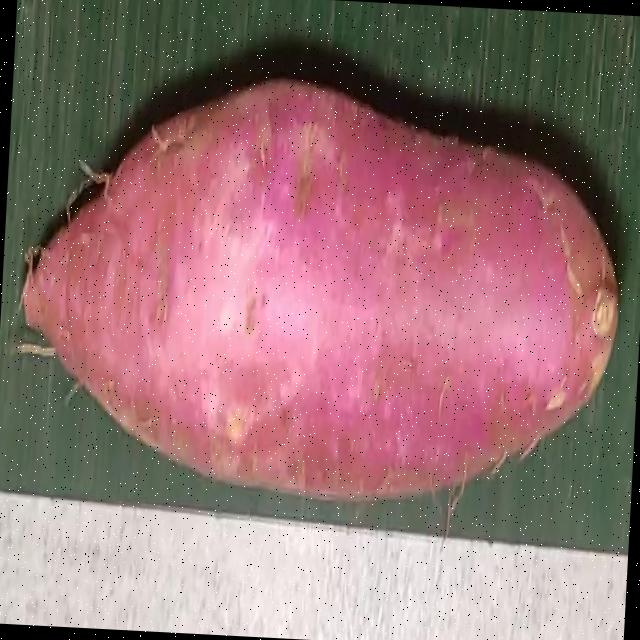Sweet Potato: (19, 80, 618, 501)
